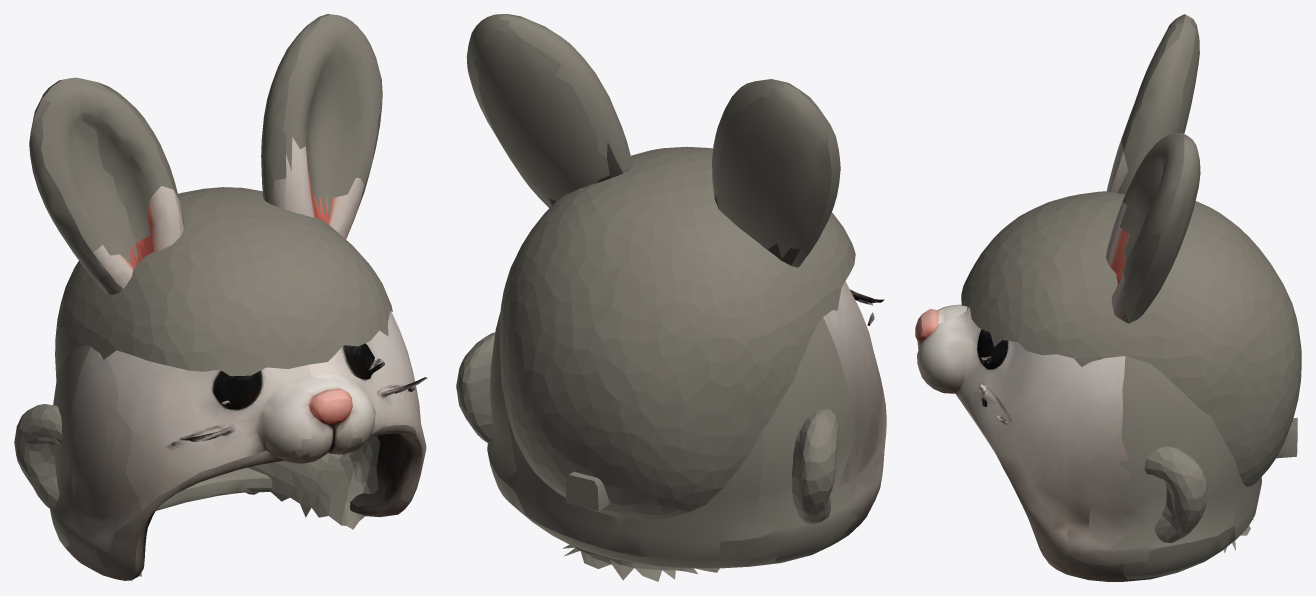
File: rabbit.glb
3 views of the same model, side by side, from view 1: azimuth 30°, elevation 25°; view 2: azimuth 150°, elevation 25°; view 3: azimuth 270°, elevation 25° (orthographic). The views are drawn at different scales.
Parts seen in each view (by area): view 1: geometry_0, HoodAnatomicalLining; view 2: HoodAnatomicalLining, geometry_0; view 3: geometry_0, HoodAnatomicalLining.
Part boxes in pixels (x1,y1,x2,y2): geometry_0: (29,14,427,580); HoodAnatomicalLining: (14,187,392,581); HoodAnatomicalLining: (456,146,855,581); geometry_0: (466,14,886,568); geometry_0: (915,14,1297,581); HoodAnatomicalLining: (961,191,1301,552).
Size of the model in its own units: 0.4602 by 0.5885 by 0.456.
2 materials, 1 textured.
